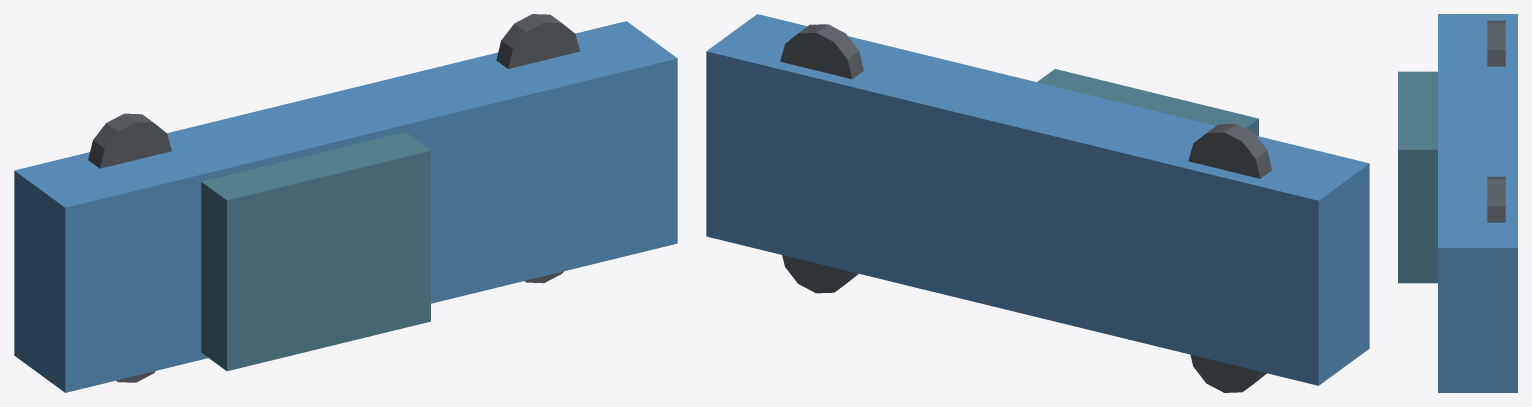
Rendered from bus.glb.
The picture shows the model from 3 angles, left to right: view 1: azimuth 30°, elevation 25°; view 2: azimuth 150°, elevation 25°; view 3: azimuth 270°, elevation 25°; orthographic projection. The views are drawn at different scales.
Parts seen in each view (by area): view 1: g0, g1, g5, g3; view 2: g0, g1, g5, g3, g2, g4; view 3: g0, g1, g3, g5.
Boxes of the visible parts, box(x1,y1,x2,y2) form: g0: box(14, 21, 677, 392); g1: box(201, 132, 430, 371); g5: box(496, 14, 580, 68); g3: box(88, 113, 171, 168); g0: box(706, 14, 1369, 385); g1: box(1037, 69, 1258, 136); g5: box(780, 24, 863, 78); g3: box(1188, 123, 1271, 178); g2: box(1190, 354, 1266, 392); g4: box(782, 255, 858, 293); g0: box(1438, 14, 1517, 392); g1: box(1398, 71, 1437, 283); g3: box(1487, 20, 1505, 66); g5: box(1487, 176, 1505, 222).
Bounding box in the file's own units: 9 × 3.66 × 1.95.
